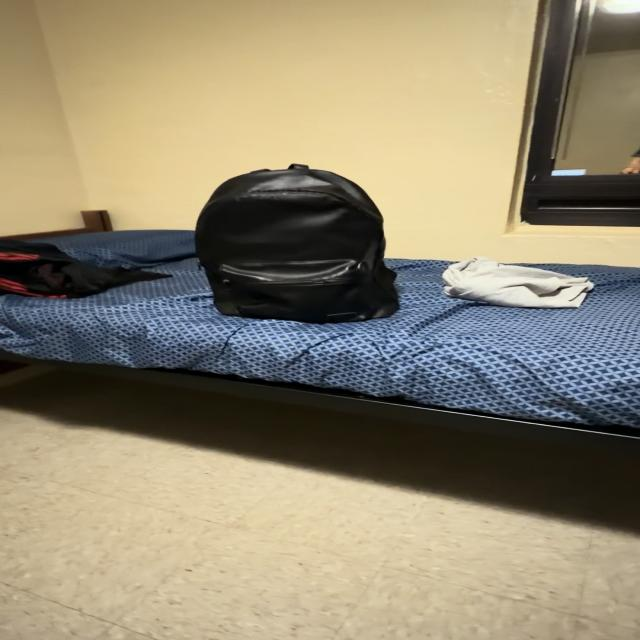backpack: (195, 164, 398, 323)
